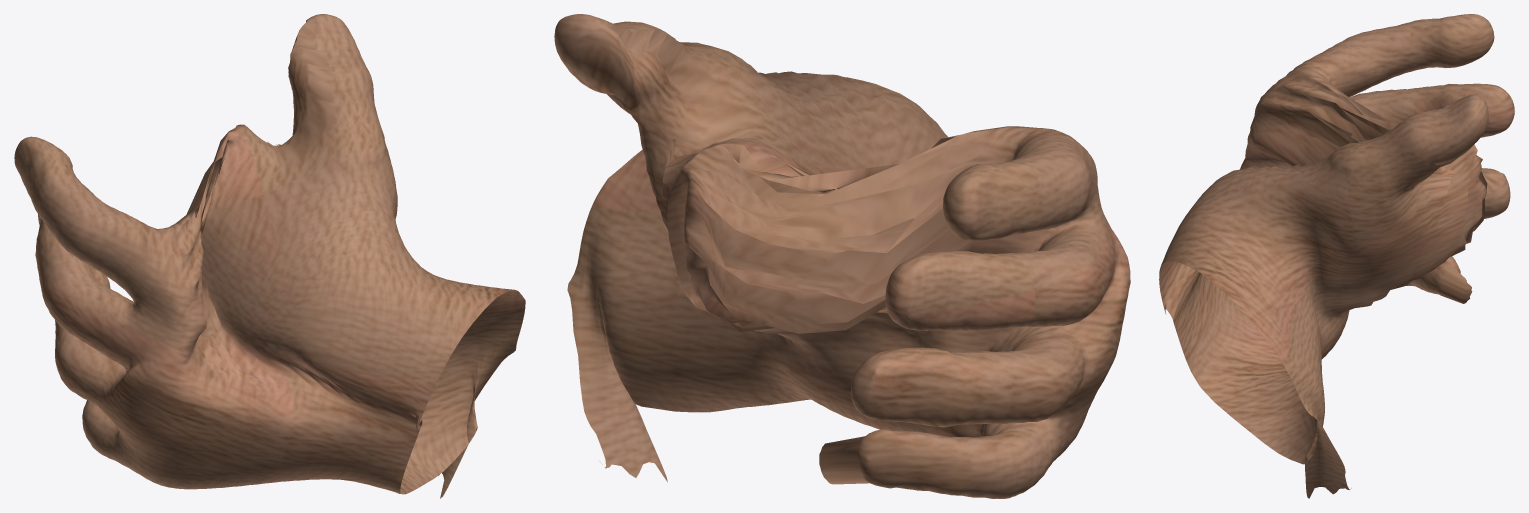
File: SM_CH_ROK_SupportHand_VisiblePolished.fbx
The picture shows the model from 3 angles, left to right: view 1: azimuth 30°, elevation 25°; view 2: azimuth 150°, elevation 25°; view 3: azimuth 270°, elevation 25°; orthographic projection. The views are drawn at different scales.
Parts seen in each view (by area): view 1: SM_CH_ROK_SupportHand_M1; view 2: SM_CH_ROK_SupportHand_M1; view 3: SM_CH_ROK_SupportHand_M1.
Boxes of the visible parts, x1,y1,x2,y2 form: SM_CH_ROK_SupportHand_M1: (14, 14, 525, 498); SM_CH_ROK_SupportHand_M1: (554, 14, 1130, 498); SM_CH_ROK_SupportHand_M1: (1159, 14, 1514, 498).
Size of the model in its own units: 0.1642 by 0.1551 by 0.1285.
